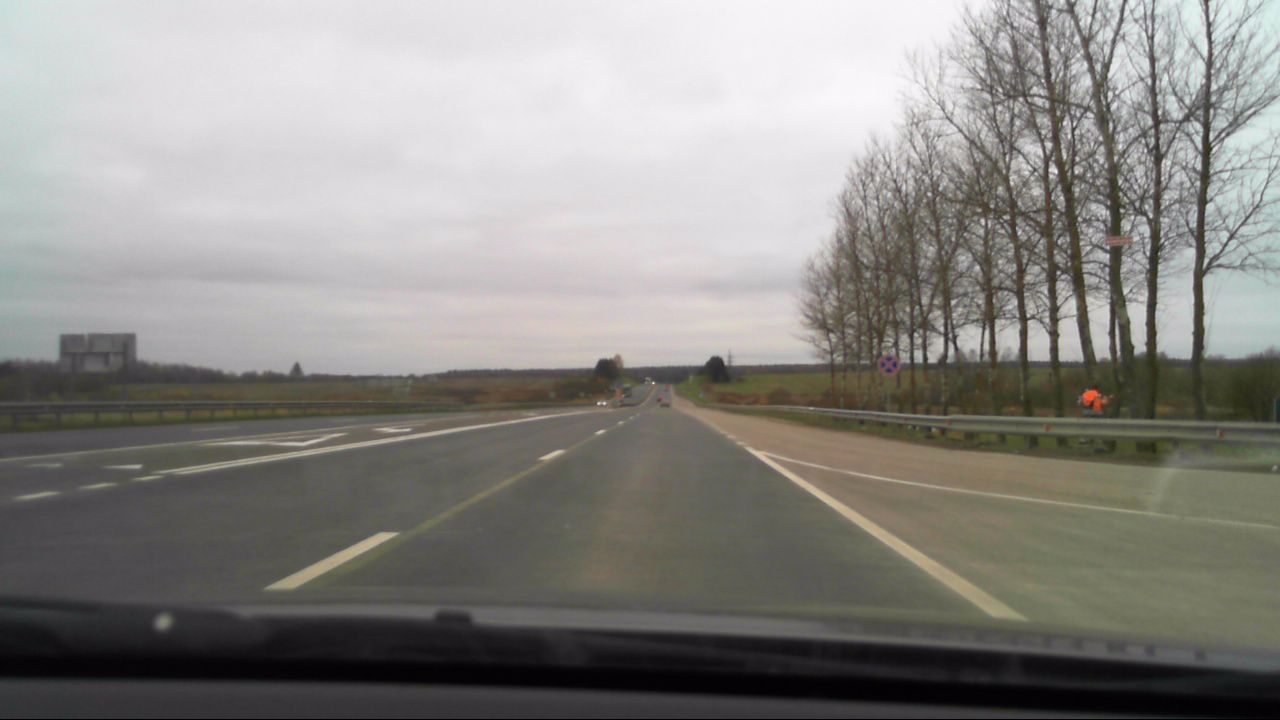No Parking: (876, 354, 901, 377)
